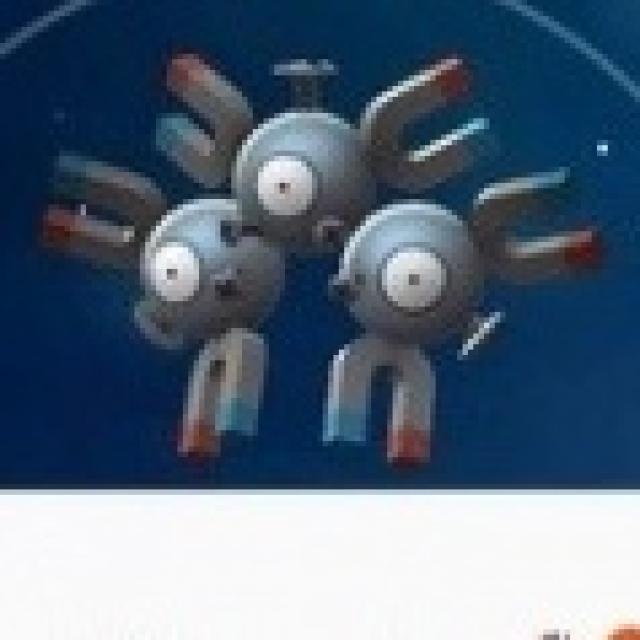Magneton: (52, 59, 589, 462)
